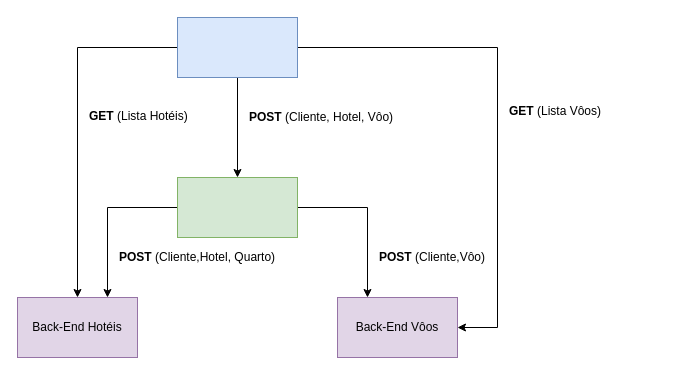
Some shapes in this 695 by 375 pixel diagram are drawn without their labels. The centre of each missing label's shape, as x and y in pixels:
"Back-End Reservas" belongs at pixel 237 207.
"Front-End Reservas" belongs at pixel 237 47.
